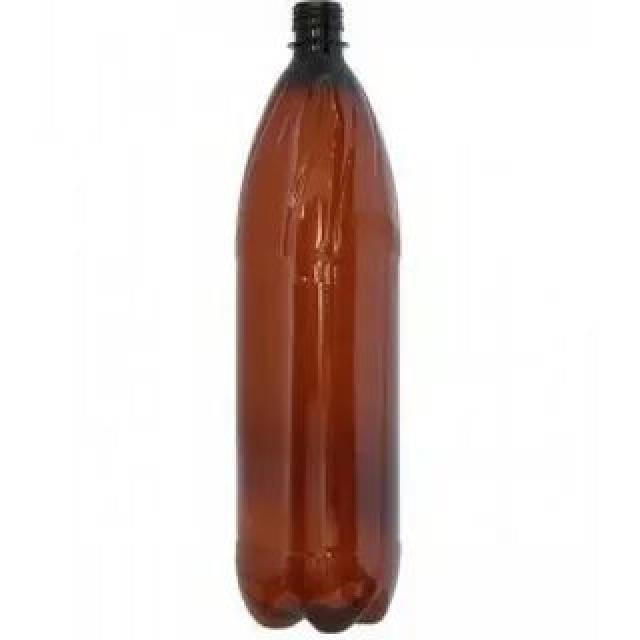brown: (233, 2, 400, 633)
